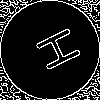H: (25, 25, 83, 78)
